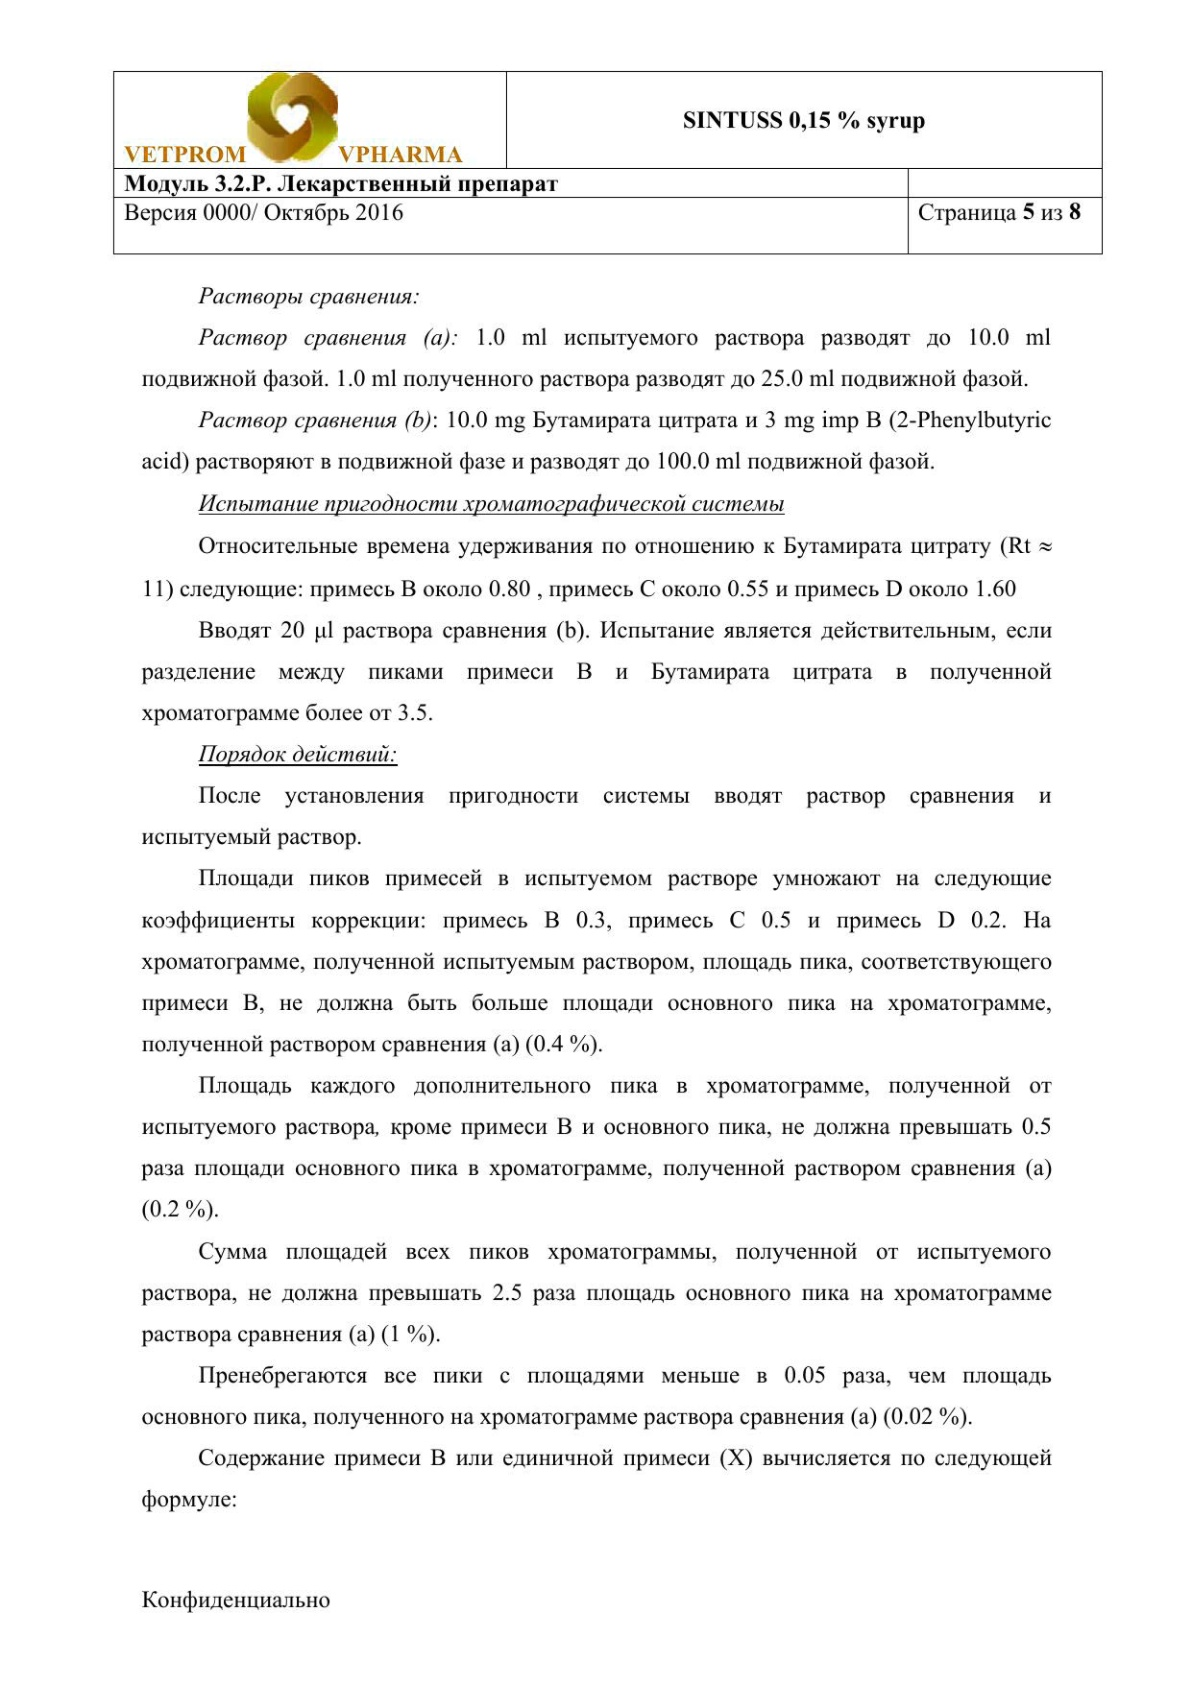merged_cells: (112, 70, 1103, 255)
